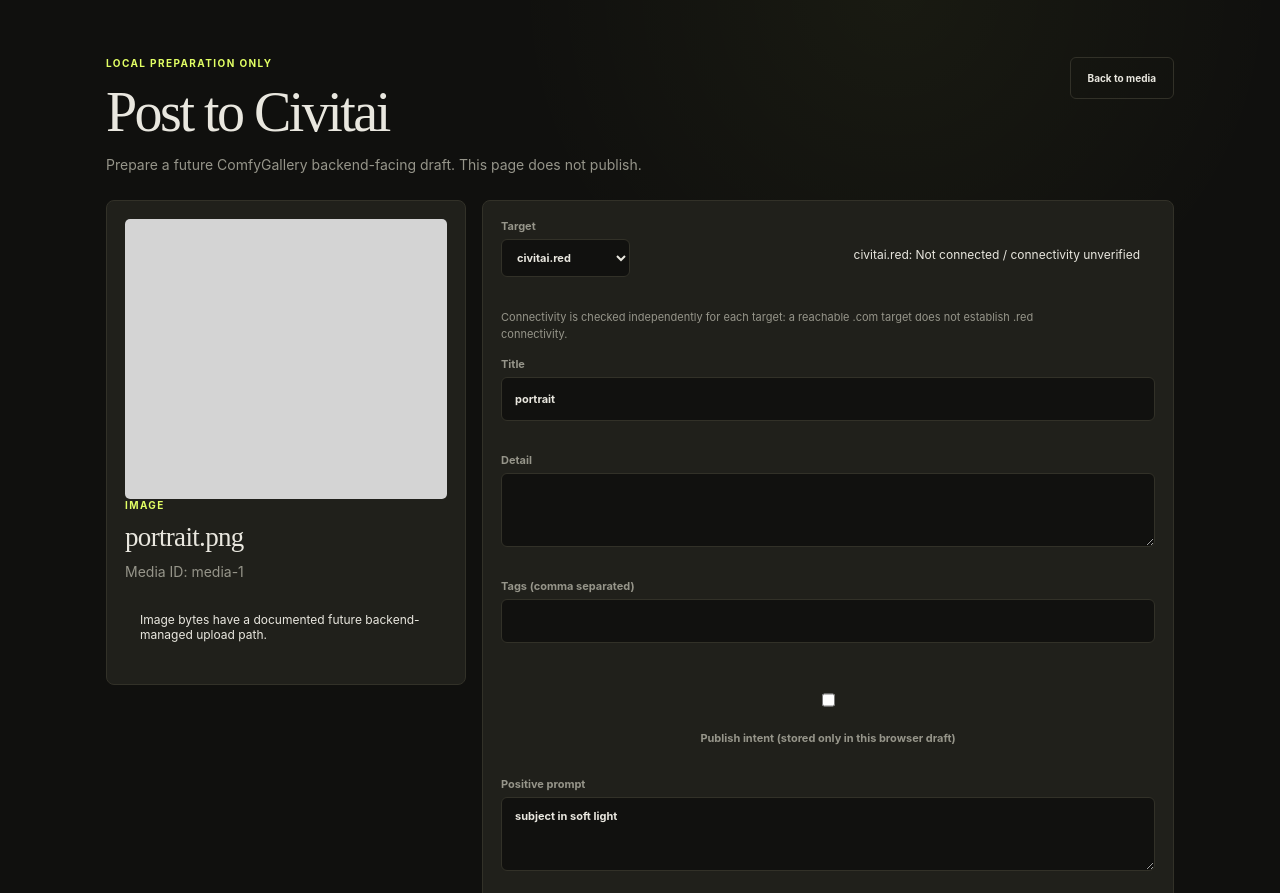
Scenario: CivitaiPostPage › keeps target-specific draft status and payload synchronized
This screenshot has width=1280, height=893.
Expected: the heading "Post to Civitai" is shown, x1=106 y1=81 x2=389 y2=143
Select "civitai.com" in the dropdown labelled "Target": (566, 258) x1=501 y1=239 x2=630 y2=277
(page scrolled)
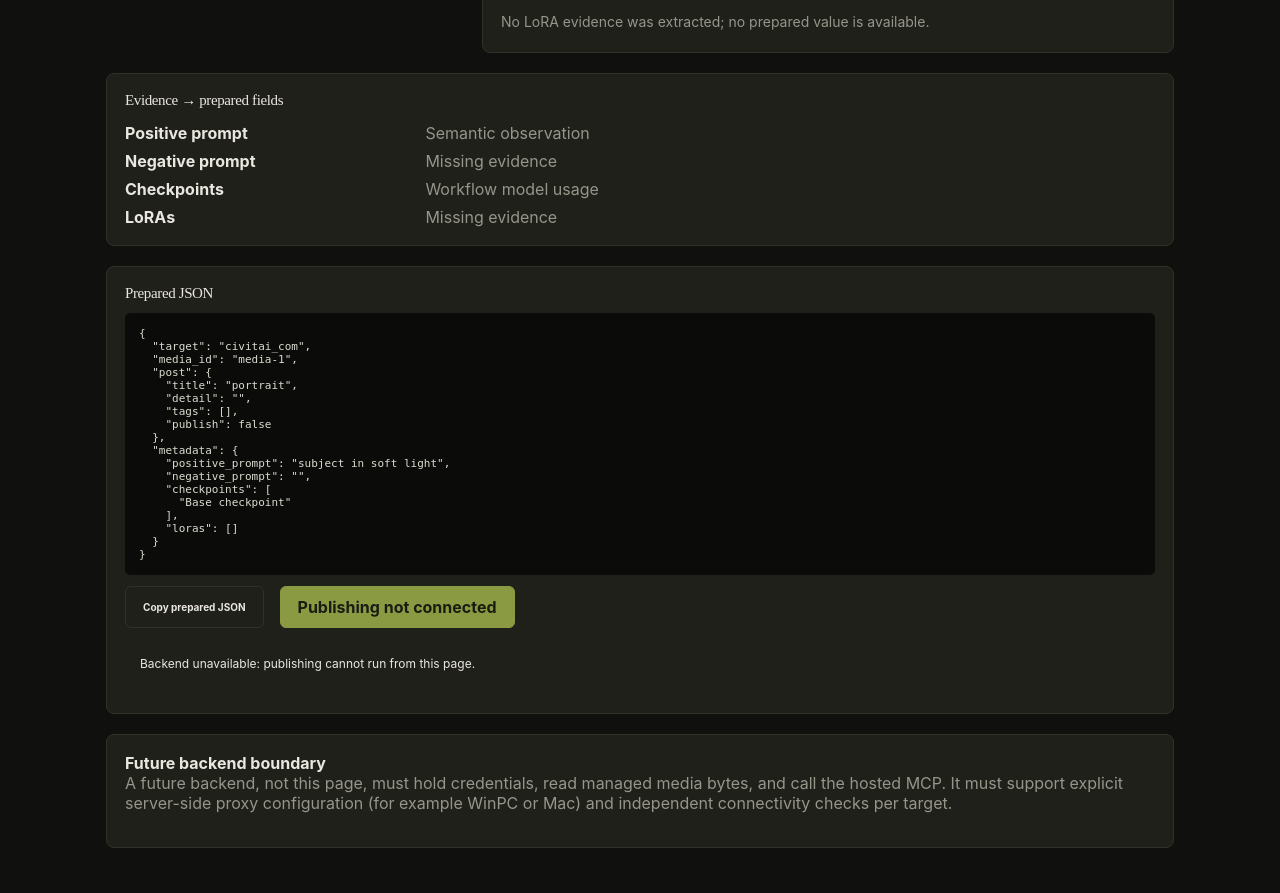
Now the text "\"target\": \"civitai_com\"" is shown, box x1=139 y1=327 x2=450 y2=561
